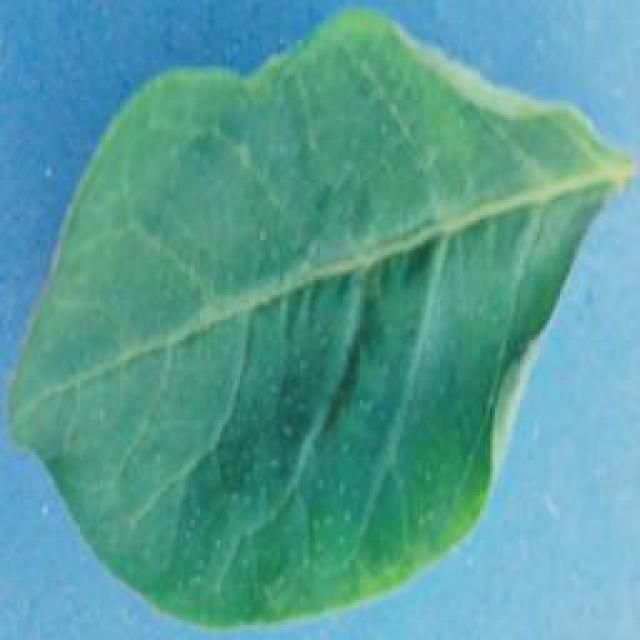Potato_Healthy: (11, 4, 626, 631)
